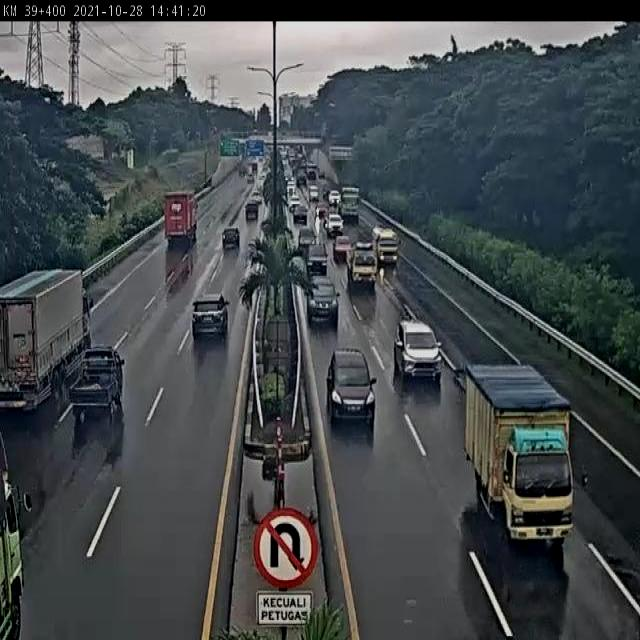Car: (325, 346, 377, 430), (393, 318, 441, 384), (191, 293, 229, 340), (306, 277, 340, 327), (306, 243, 328, 277), (297, 227, 316, 258), (333, 235, 352, 264), (326, 213, 344, 236), (292, 202, 308, 224), (328, 190, 341, 207), (316, 203, 328, 220), (289, 192, 300, 210), (308, 184, 318, 201)
Truck: (462, 364, 572, 542), (0, 269, 92, 416), (69, 345, 128, 423), (163, 191, 199, 247), (349, 244, 378, 287), (372, 226, 400, 266), (340, 186, 361, 223), (222, 227, 240, 249)
